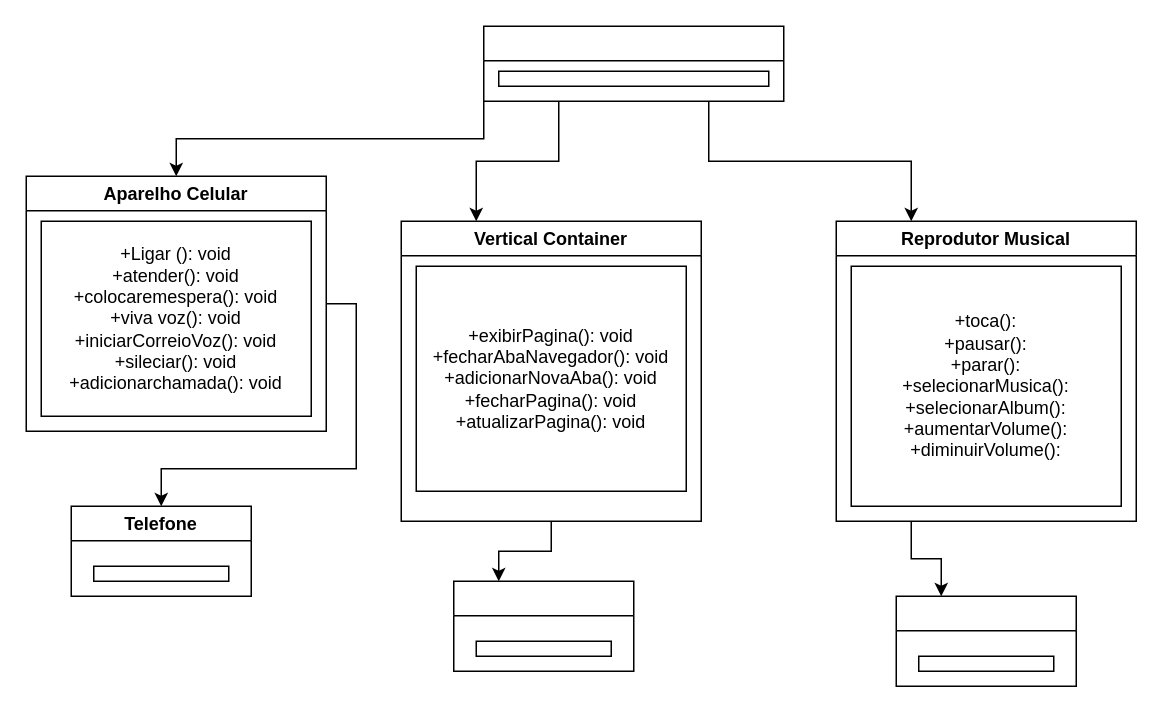
The diagram is 1163 pixels wide and 713 high, and some of its shapes have lost their labels. Here are the shapes that lost their labels. From the top down, the centre of each, then its label:
At pixel 633 63: "Iphone".
At pixel 543 625: "Safari".
At pixel 985 640: "Ipod".
